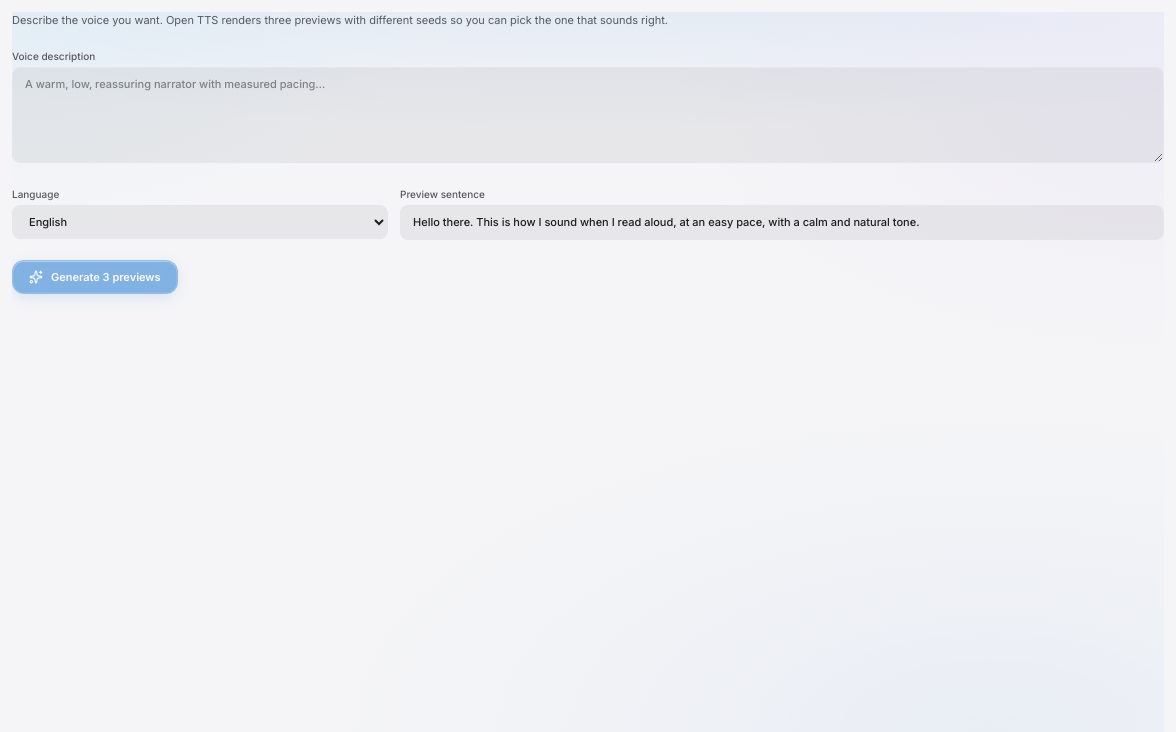
Test: VoiceDesignPanel › renders three seeded previews of the description, one after another
The width and height of the screenshot is (1176, 732).
Step 1. Type "A warm, low narrator" into the text box labelled "Voice description" → (588, 115), box [12, 67, 1164, 163]
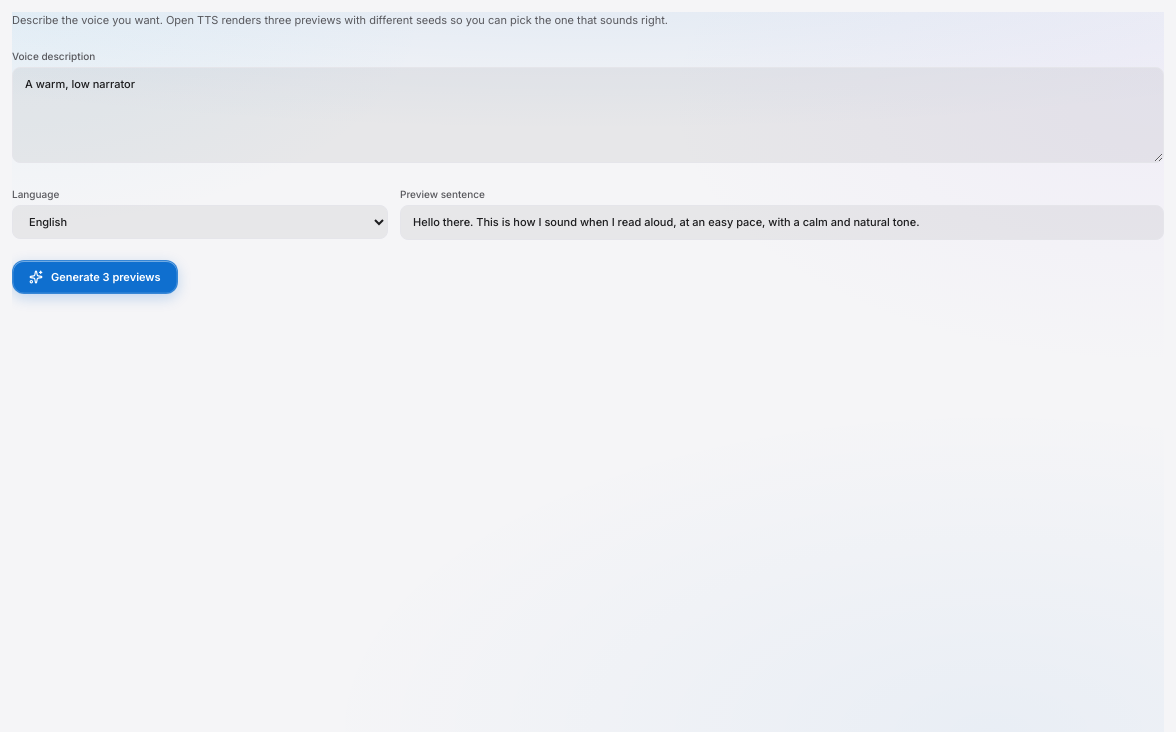
Step 2. Click the button "Generate 3 previews" → (95, 277), box [12, 260, 178, 294]
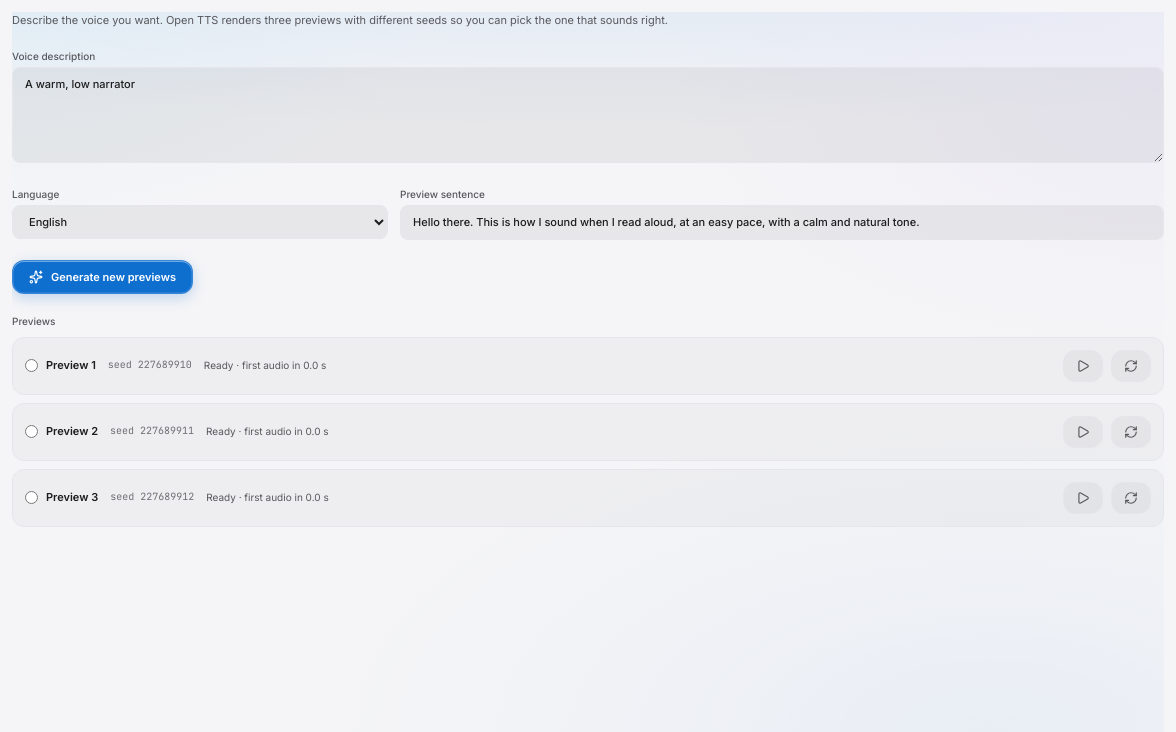
Result: the text "Ready · first audio in 0.0 s" is shown 3 times at [204, 358, 326, 373]; [206, 424, 329, 439]; [206, 490, 329, 505]
